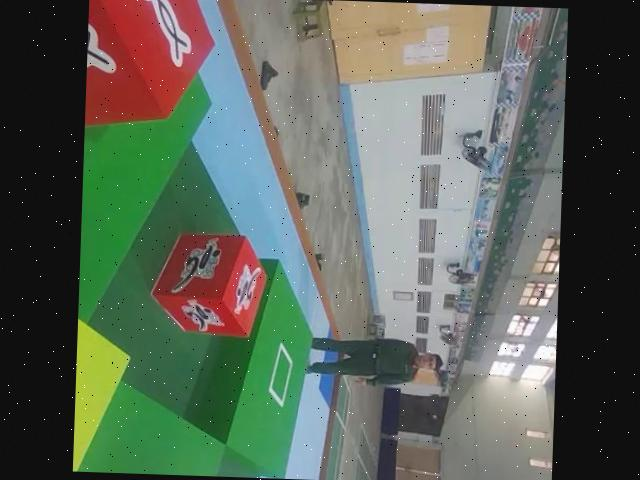R1: (148, 231, 266, 337)
R2 Real: (84, 0, 217, 125)
